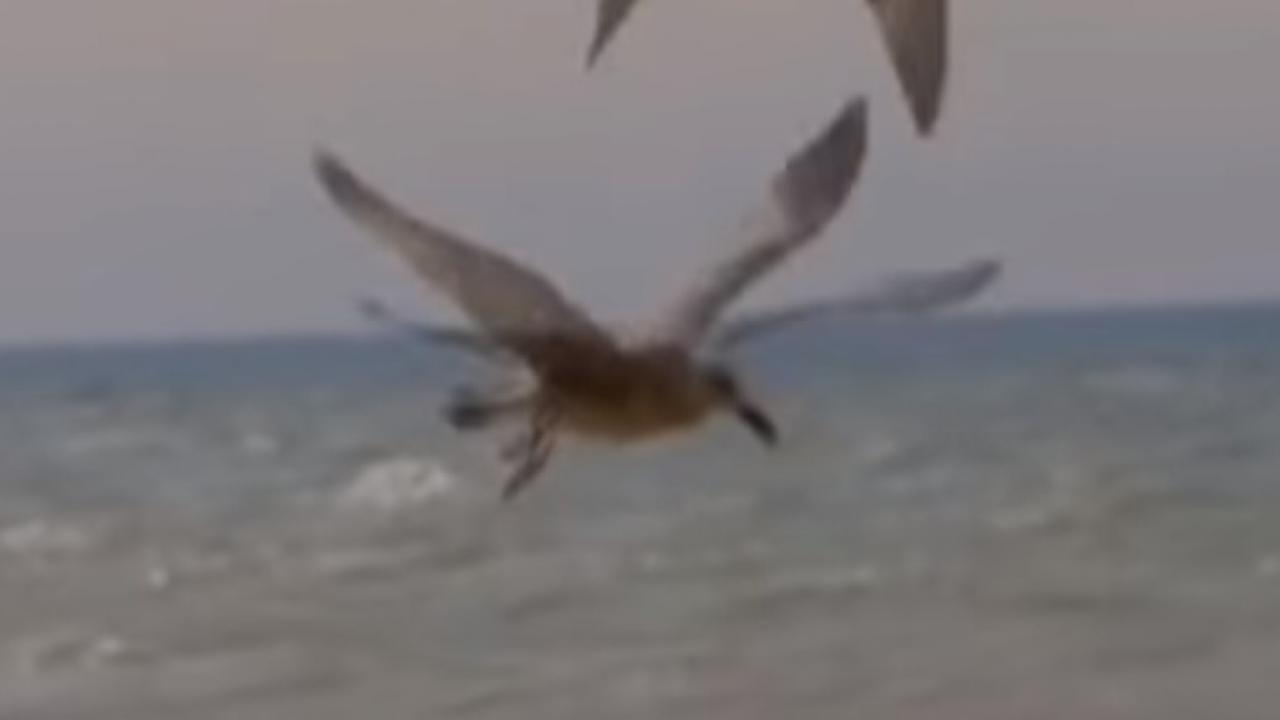Bird: (294, 76, 886, 516)
